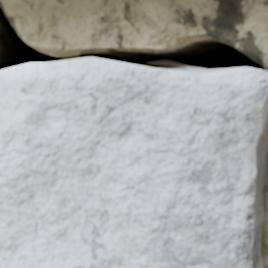brick: (0, 58, 267, 267)
crack: (0, 0, 267, 71), (263, 131, 267, 191)
